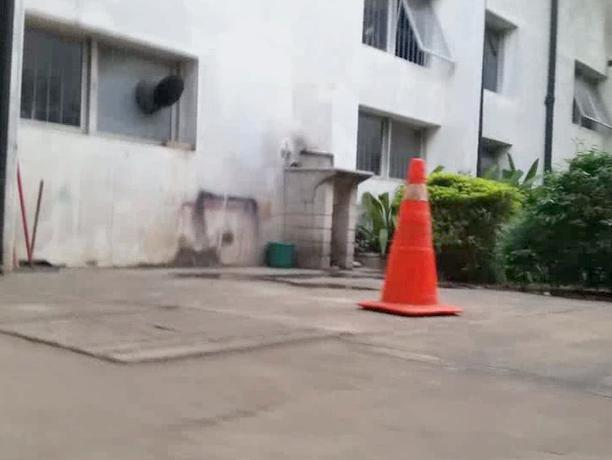0 cone: (356, 158, 460, 314)
